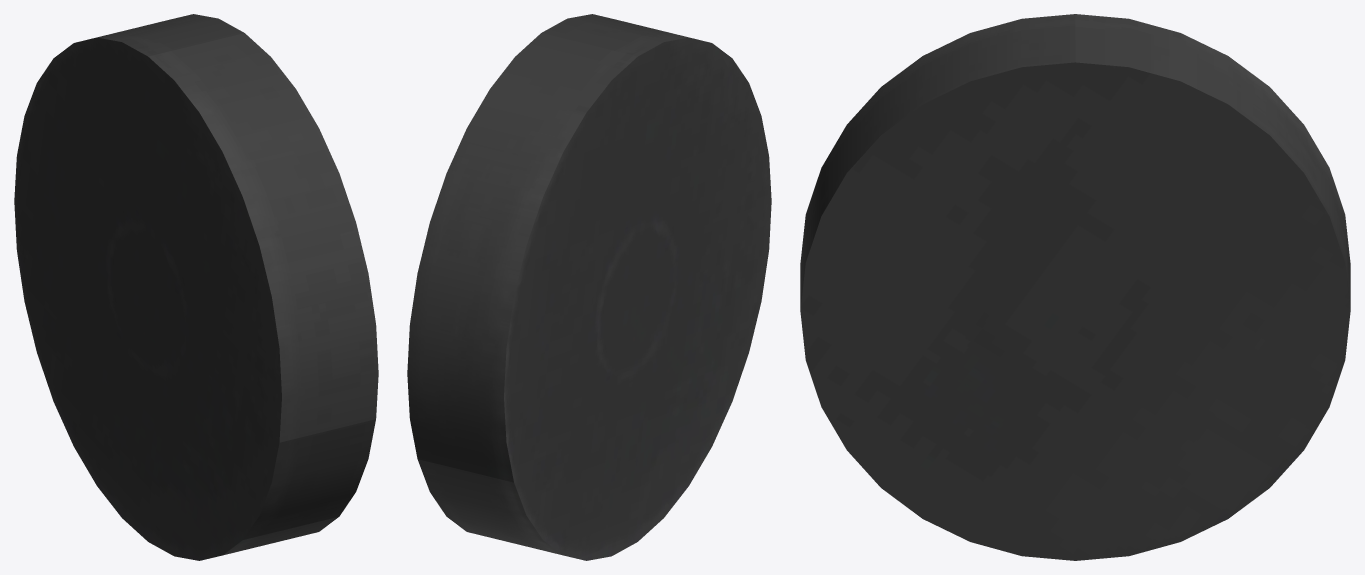
File: handle__handle_boss.glb
3 renders of one model, left to right at view 1: azimuth 30°, elevation 25°; view 2: azimuth 150°, elevation 25°; view 3: azimuth 270°, elevation 25°, orthographic. The views are drawn at different scales.
Visible parts, largest first — view 1: geometry_0; view 2: geometry_0; view 3: geometry_0.
Boxes of the visible parts, box(x1,y1,x2,y2) form: geometry_0: box(14, 14, 378, 560); geometry_0: box(407, 14, 771, 560); geometry_0: box(800, 14, 1350, 560).
Size of the model in its own units: 0.01 by 0.048 by 0.048.
Materials: 1 (1 with a texture image).
